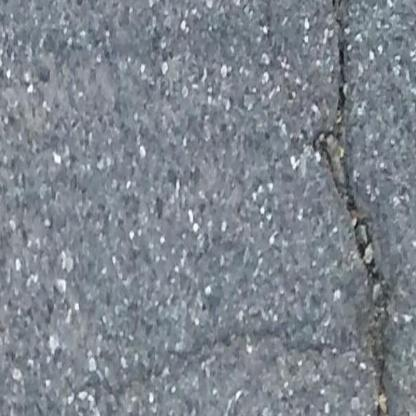Cracks: (14, 0, 398, 416)
